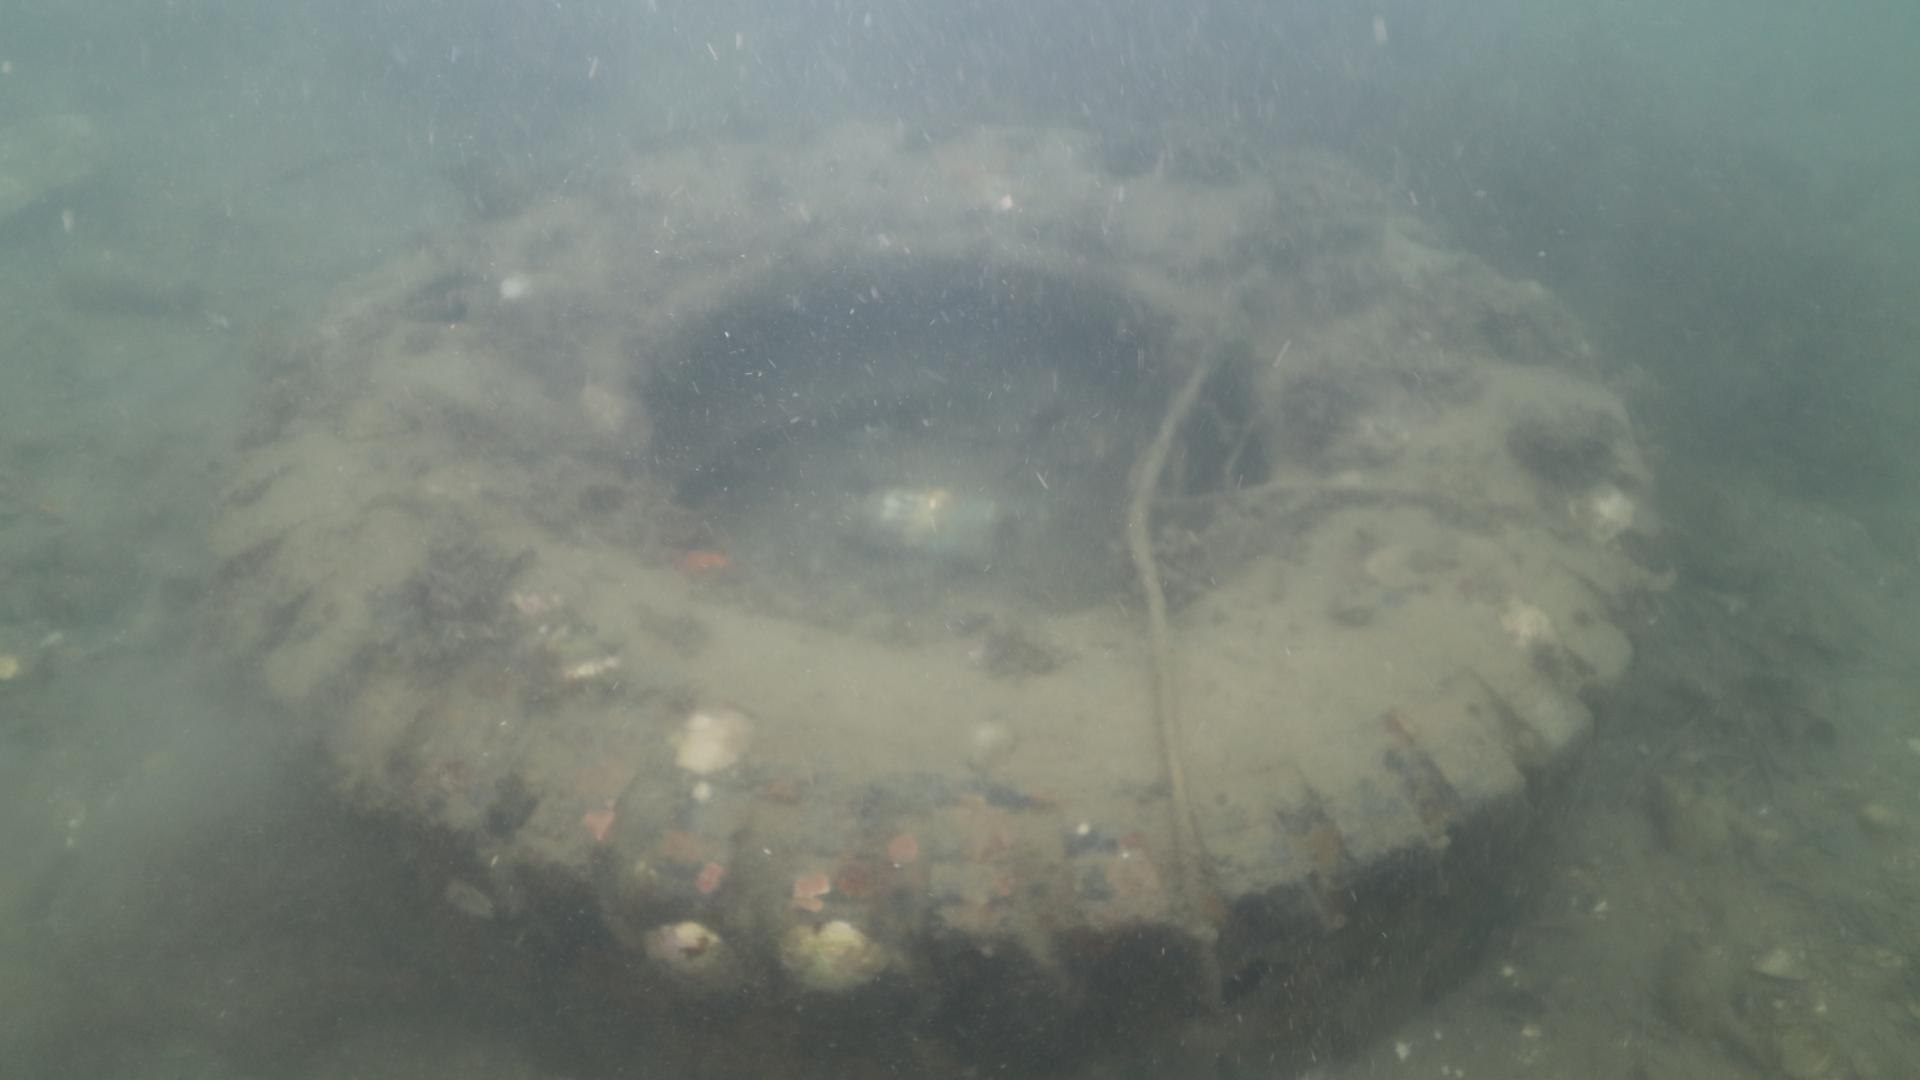tire: (208, 112, 1673, 1077)
